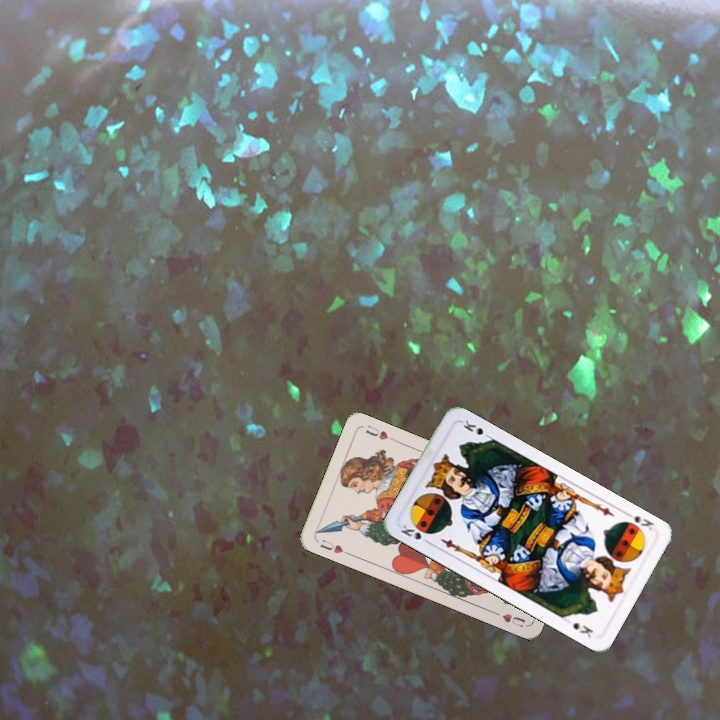HU: (316, 535, 346, 556)
SK: (397, 521, 434, 547), (621, 508, 656, 533)
